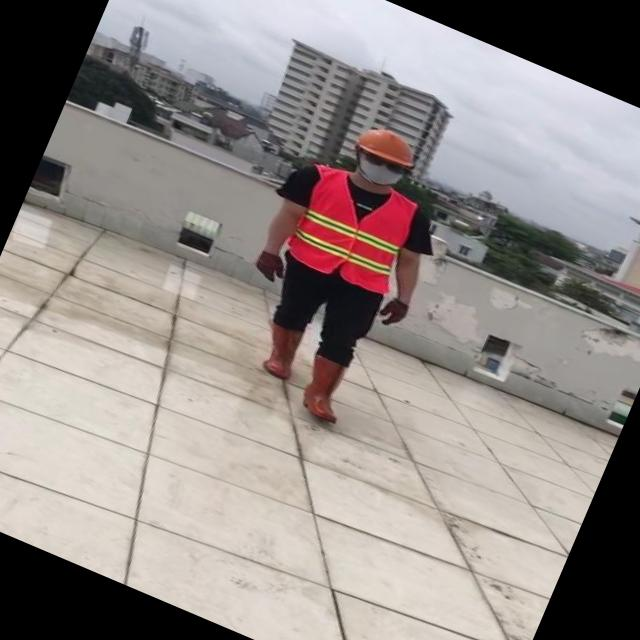hard_hat: (344, 116, 429, 176)
safety_vest: (278, 159, 426, 298)
vehicle: (206, 98, 479, 438)
work_boots: (292, 352, 358, 426), (252, 318, 308, 381)
